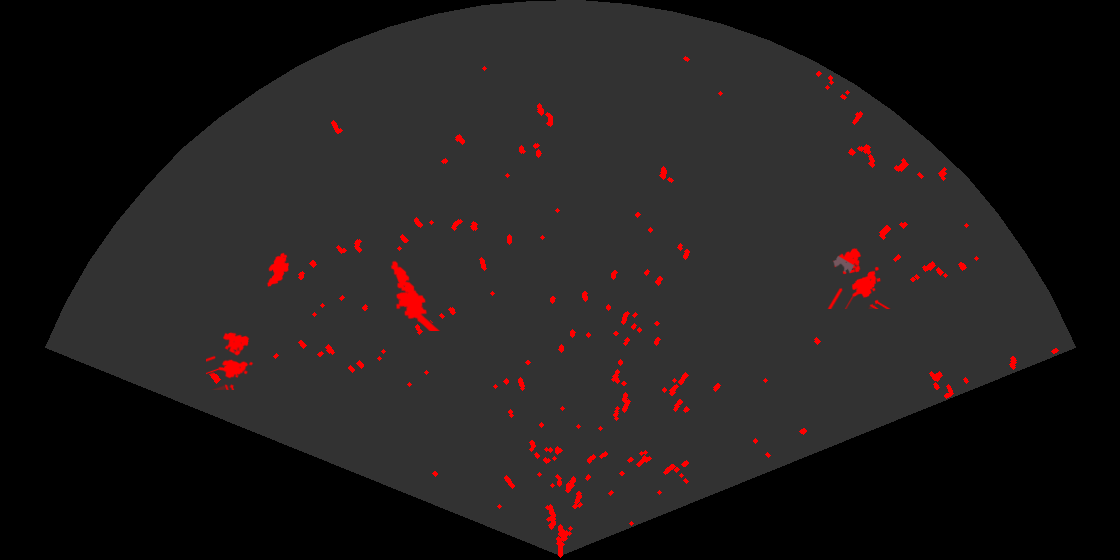AUV: (265, 251, 291, 289)
cage: (826, 247, 892, 309), (206, 331, 255, 390)
frogman: (389, 259, 442, 331)
